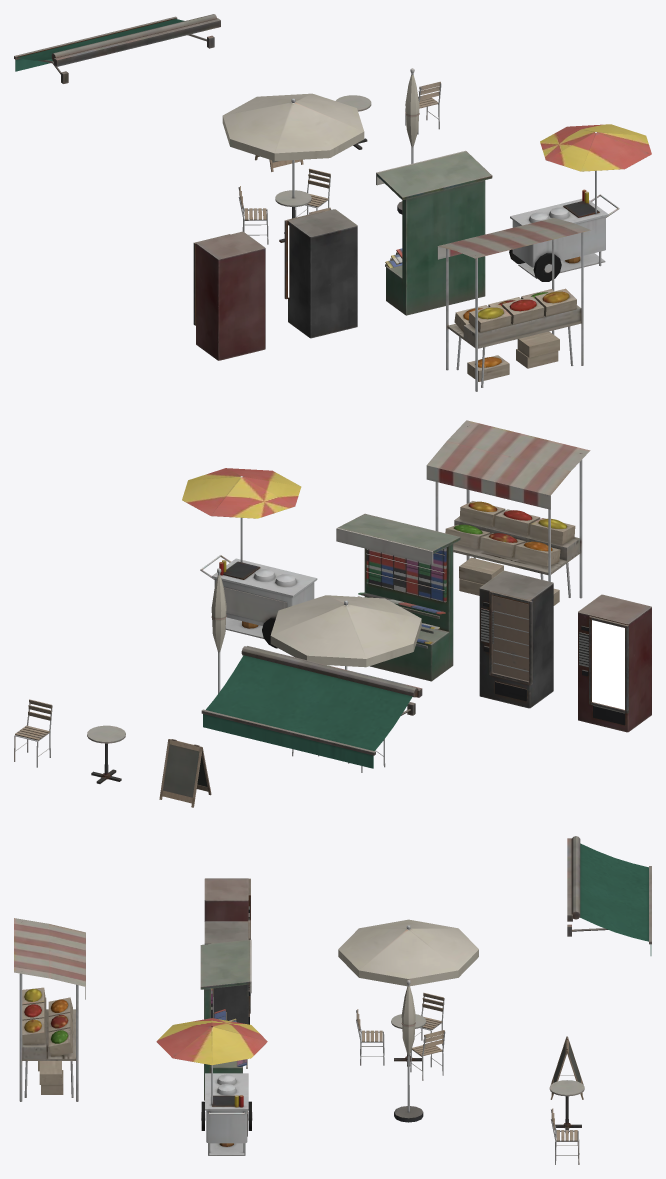
Rendered from set_commerce.glb.
The picture shows the model from 3 angles, top to bottom: view 1: azimuth 30°, elevation 25°; view 2: azimuth 150°, elevation 25°; view 3: azimuth 270°, elevation 25°; orthographic projection. The views are drawn at different scales.
Parts seen in each view (by area): view 1: news_stand_lod0, fruit_stall_lod0, cafe_set_lod0, hotdog_cart_lod0, vending_snacks_lod0, vending_drinks_lod0, awning_shop_lod0, parasol_closed_lod0, cafe_chair_lod0; view 2: fruit_stall_lod0, awning_shop_lod0, news_stand_lod0, hotdog_cart_lod0, vending_snacks_lod0, vending_drinks_lod0, cafe_set_lod0, aframe_board_lod0, parasol_closed_lod0, cafe_chair_lod0, cafe_table_lod0; view 3: fruit_stall_lod0, cafe_set_lod0, hotdog_cart_lod0, awning_shop_lod0, news_stand_lod0, vending_snacks_lod0, vending_drinks_lod0, parasol_closed_lod0, cafe_table_lod0, aframe_board_lod0, cafe_chair_lod0.
Boxes of the visible parts, <box> form: news_stand_lod0: <box>376,150,492,315</box>; fruit_stall_lod0: <box>437,218,590,391</box>; cafe_set_lod0: <box>222,93,364,244</box>; hotdog_cart_lod0: <box>509,124,651,281</box>; vending_snacks_lod0: <box>284,209,357,338</box>; vending_drinks_lod0: <box>193,231,265,360</box>; awning_shop_lod0: <box>14,14,220,83</box>; parasol_closed_lod0: <box>397,68,419,214</box>; cafe_chair_lod0: <box>405,81,441,134</box>; fruit_stall_lod0: <box>426,420,590,605</box>; awning_shop_lod0: <box>201,646,422,768</box>; news_stand_lod0: <box>336,513,460,681</box>; hotdog_cart_lod0: <box>182,468,317,648</box>; vending_snacks_lod0: <box>479,570,553,708</box>; vending_drinks_lod0: <box>578,594,651,732</box>; cafe_set_lod0: <box>270,595,421,772</box>; aframe_board_lod0: <box>159,739,211,807</box>; parasol_closed_lod0: <box>211,568,226,693</box>; cafe_chair_lod0: <box>14,699,52,767</box>; cafe_table_lod0: <box>87,725,125,783</box>; fruit_stall_lod0: <box>14,918,85,1101</box>; cafe_set_lod0: <box>338,919,478,1080</box>; hotdog_cart_lod0: <box>156,1018,267,1155</box>; awning_shop_lod0: <box>567,836,651,955</box>; news_stand_lod0: <box>200,939,251,1100</box>; vending_snacks_lod0: <box>204,920,250,1026</box>; vending_drinks_lod0: <box>204,878,250,939</box>; parasol_closed_lod0: <box>394,980,423,1122</box>; cafe_table_lod0: <box>549,1080,584,1132</box>; aframe_board_lod0: <box>550,1036,583,1099</box>; cafe_chair_lod0: <box>551,1108,579,1164</box>.
Size of what is drawn, in the model's own units: 8.17 by 2.88 by 10.87.
Materials: 4 (3 with a texture image).
